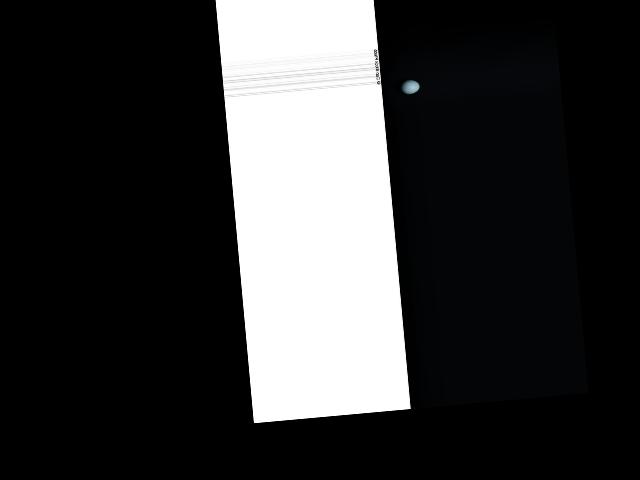egg: (399, 78, 420, 95)
